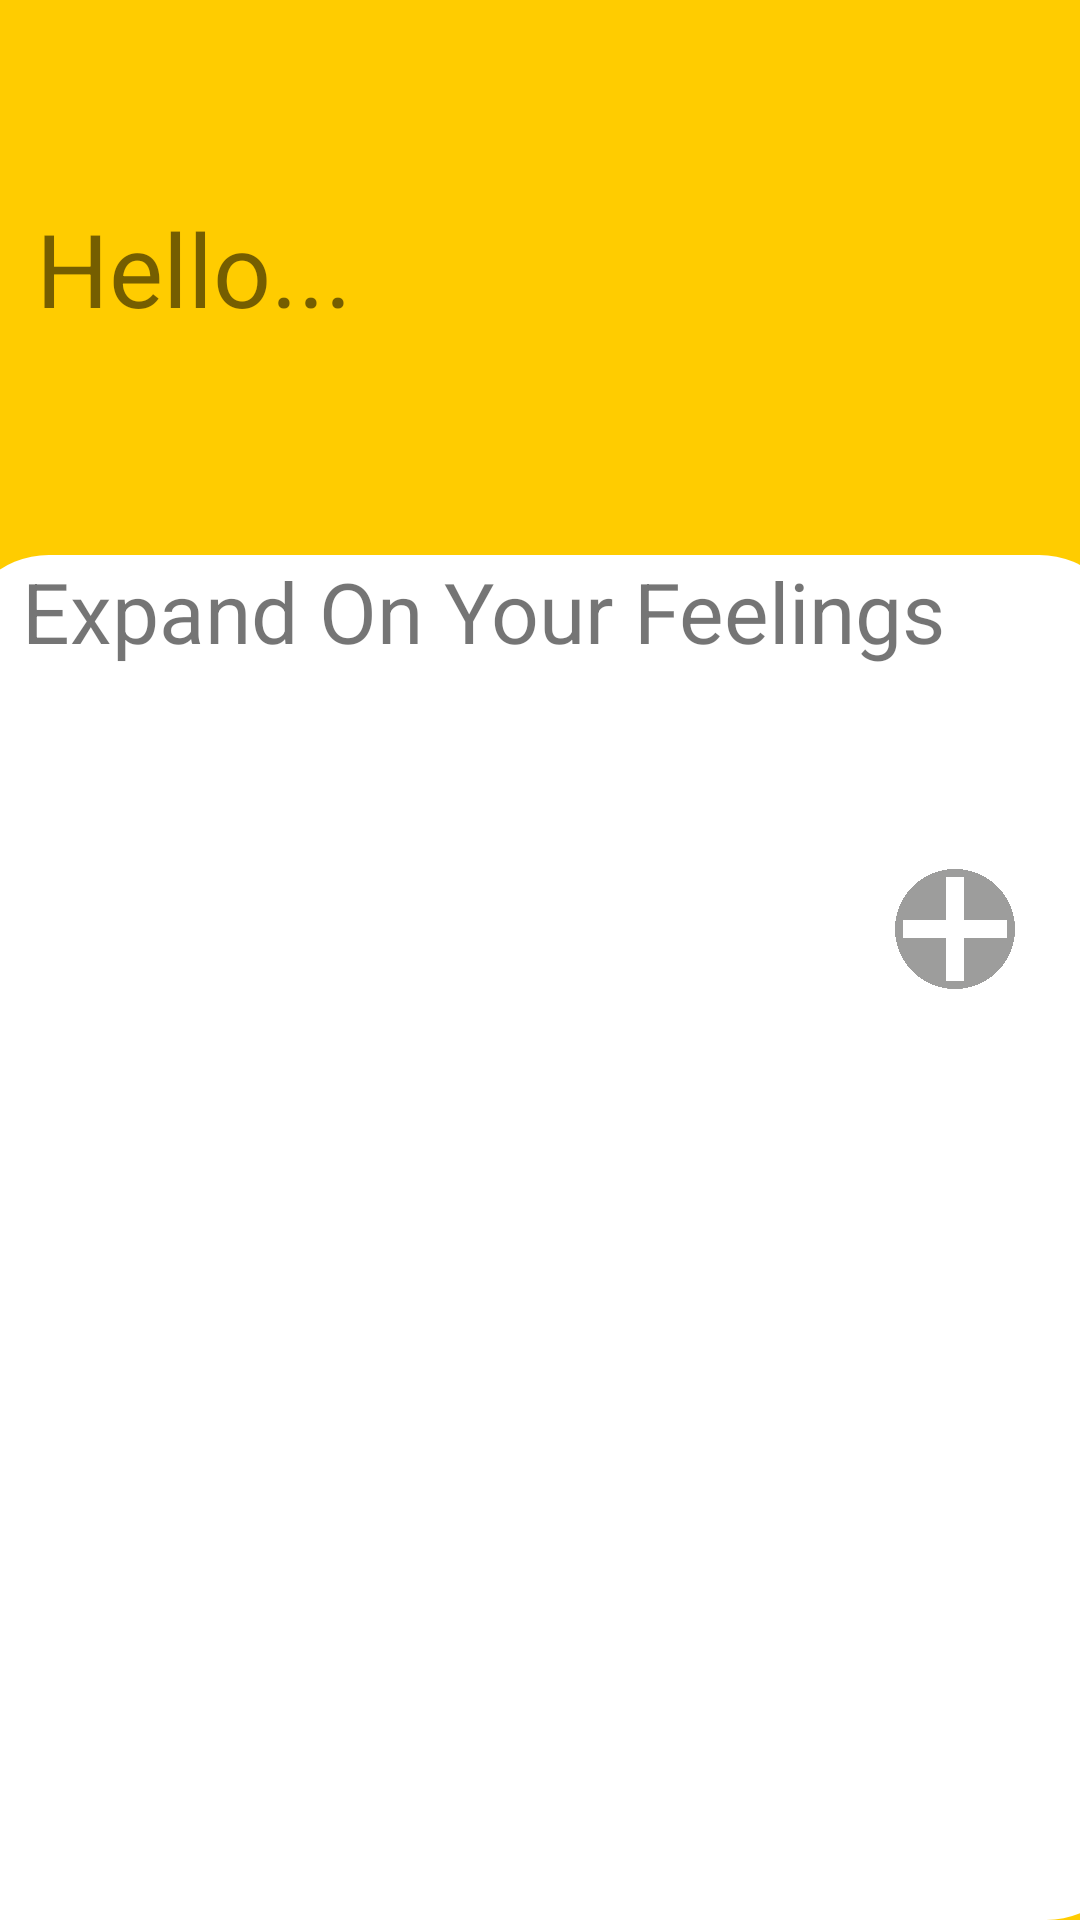

Locate icon controls on the screen. Image size 1080×1920, boxes as bbox(x1, y1, x2, y2).
plusicon: bbox(895, 869, 1015, 989)
